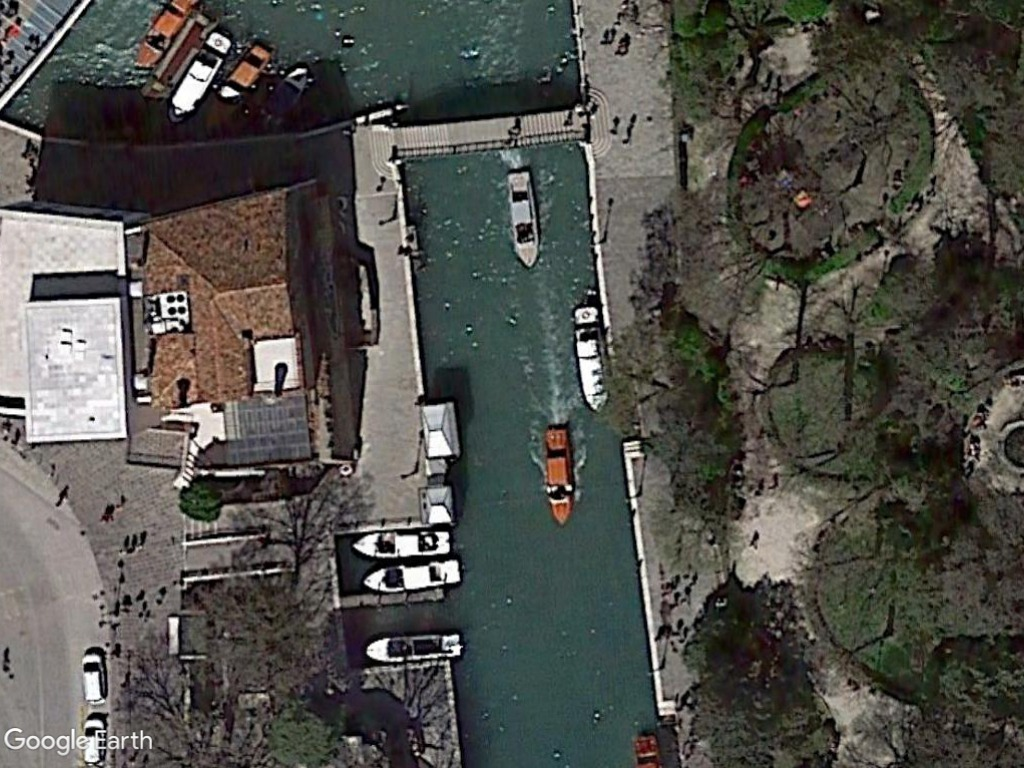boat: (164, 26, 232, 128), (570, 302, 617, 419), (361, 554, 466, 597), (502, 168, 543, 269), (361, 630, 472, 667), (541, 422, 578, 531), (346, 528, 458, 562)
car: (78, 651, 110, 708)
